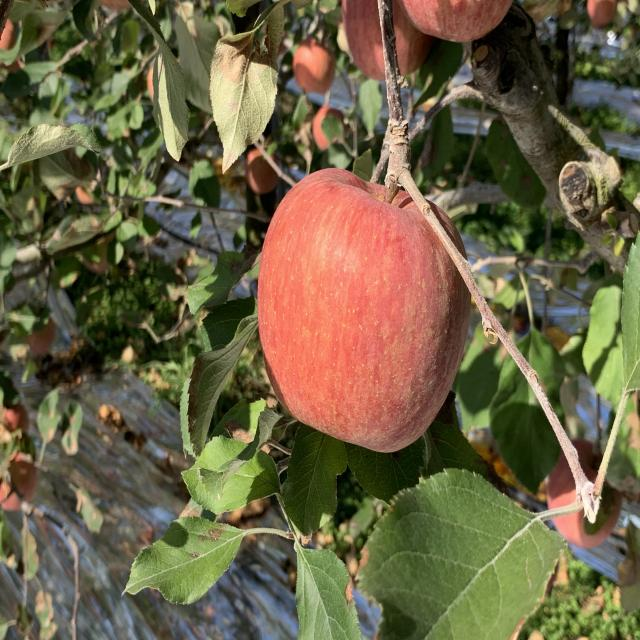fresh: (251, 156, 475, 455)
